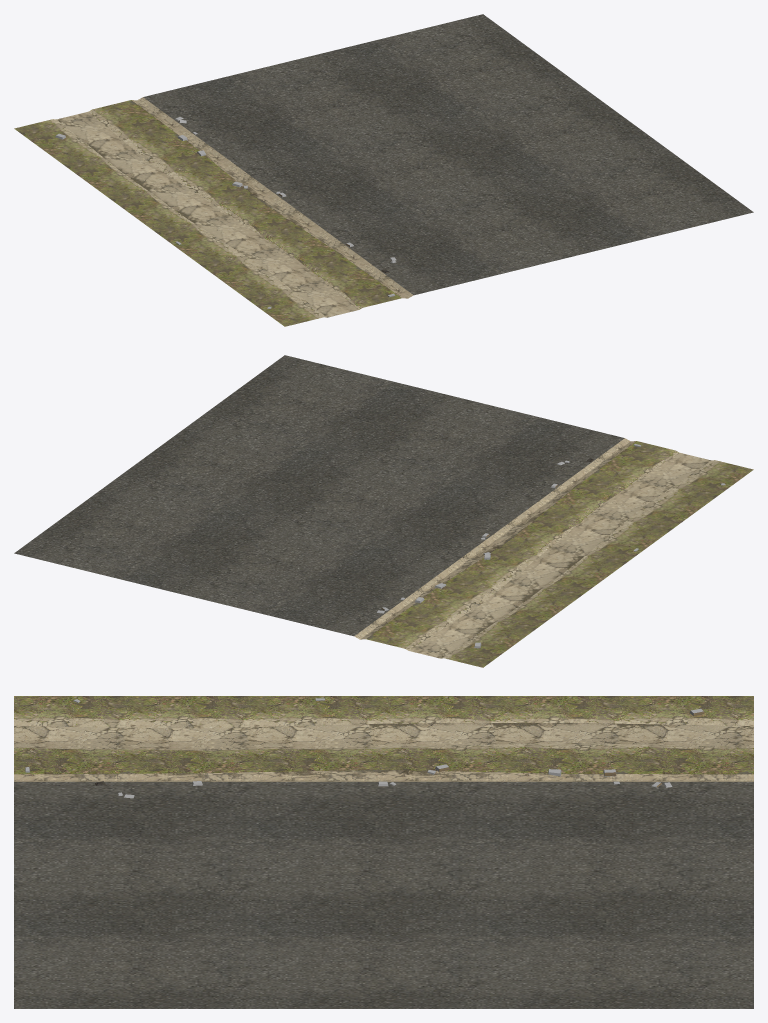
File: bz_road_pavement_01.fbx
3 renders of one model, top to bottom at view 1: azimuth 30°, elevation 25°; view 2: azimuth 150°, elevation 25°; view 3: azimuth 270°, elevation 25°, orthographic. The views are drawn at different scales.
Visible parts, largest first — view 1: bz_road_01; view 2: bz_road_01; view 3: bz_road_01.
Part boxes in pixels (x1,y1,x2,y2): bz_road_01: (14, 14, 753, 326); bz_road_01: (14, 355, 753, 667); bz_road_01: (14, 696, 753, 1008).
Size of the model in its own units: 8 by 0.0838 by 8.
